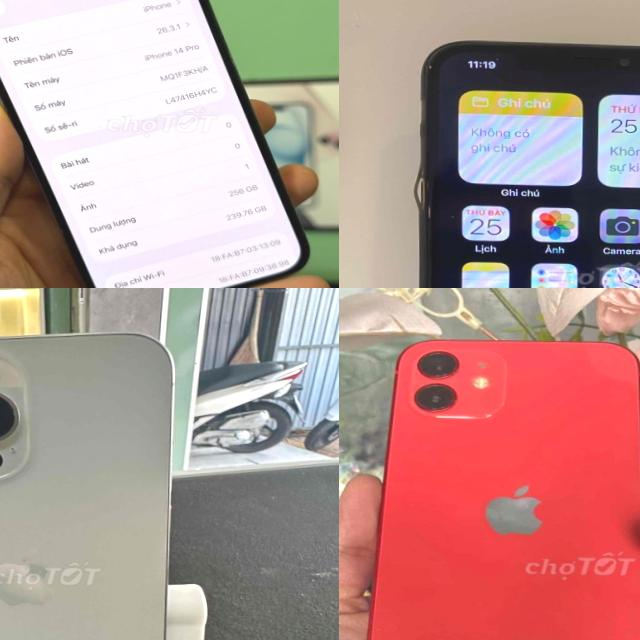scratch: (0, 379, 31, 481)
